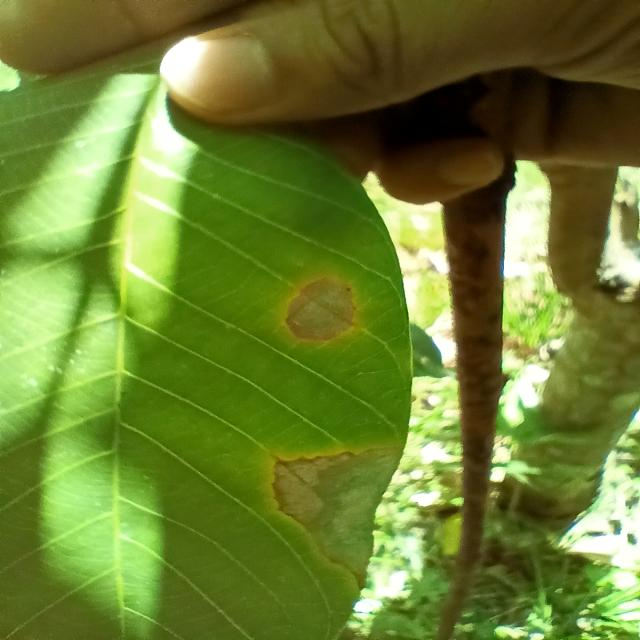Leaf-Blight: (270, 446, 407, 590), (285, 277, 358, 341)
